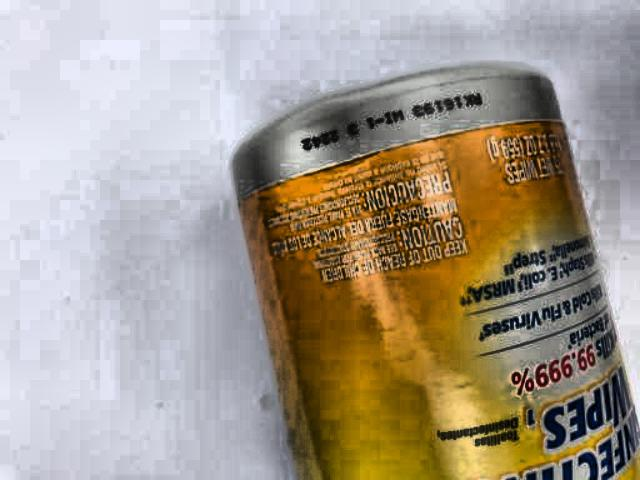Plastic: (239, 63, 620, 480)
